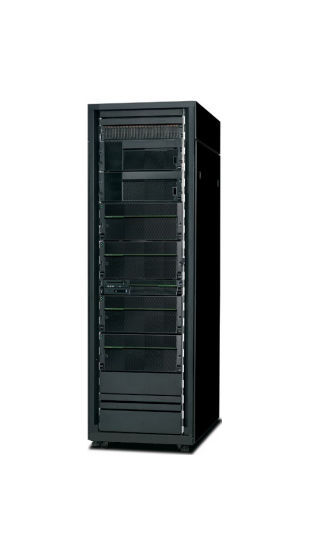ibm-server: (78, 97, 228, 455)
